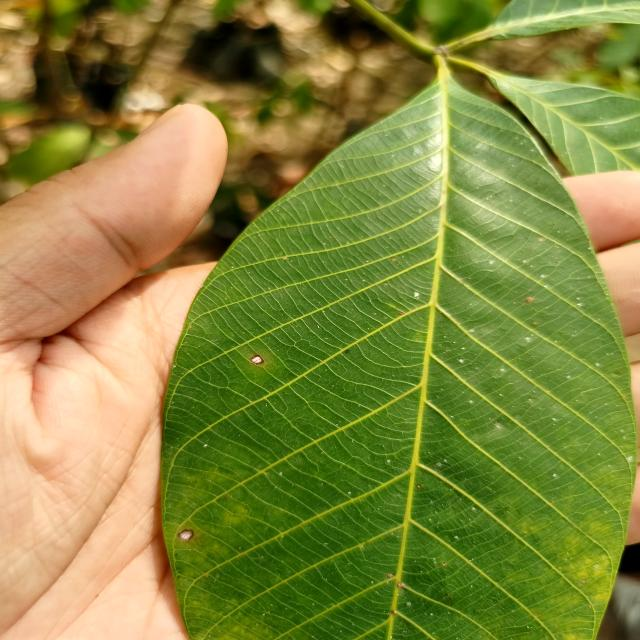Colletotrichum: (179, 528, 194, 540), (251, 355, 265, 364)
